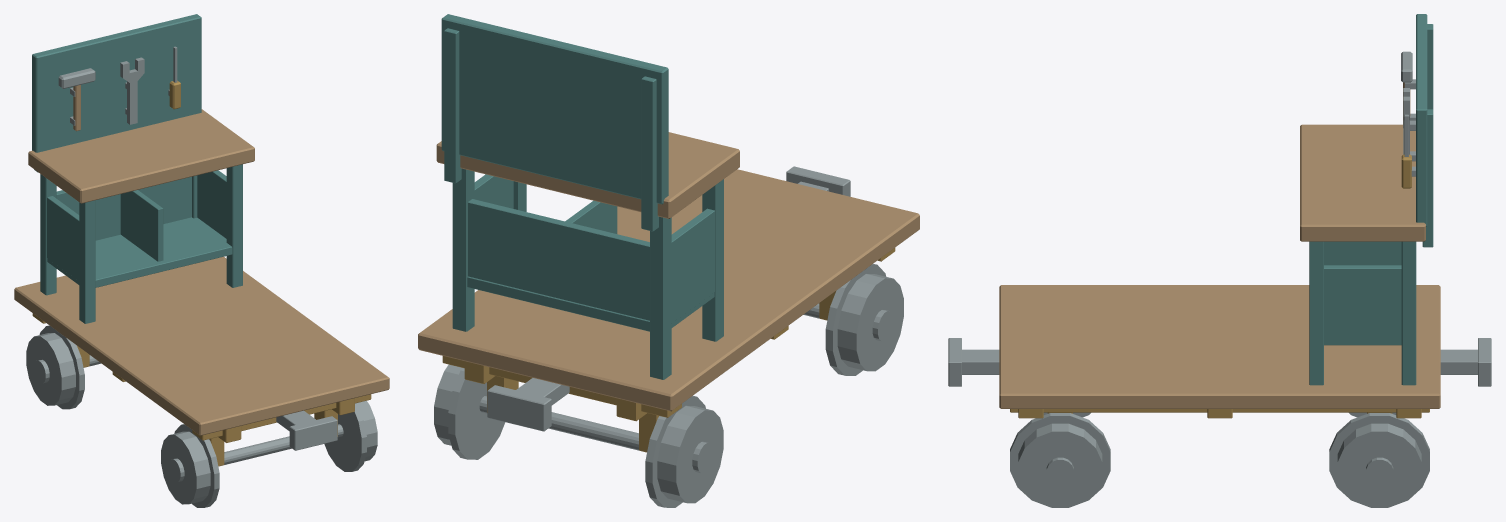
3 renders of one model, left to right at view 1: azimuth 30°, elevation 25°; view 2: azimuth 150°, elevation 25°; view 3: azimuth 270°, elevation 25°, orthographic. The views are drawn at different scales.
Parts seen in each view (by area): view 1: Deck_WorkArea, Toolboard, Bench_Worktop, Storage_Shelf, Storage_Back, Tread_Left_Front, Tread_Left_Rear, Storage_Divider, Storage_Side_Left, BenchLeg_Left_Front, BenchLeg_Right_Front, Flange_Right_Front (+11 smaller); view 2: Deck_WorkArea, Toolboard, Storage_Back, Bench_Worktop, Tread_Left_Rear, Tread_Left_Front, Storage_Side_Left, BenchLeg_Left_Rear, Flange_Right_Rear, BenchLeg_Right_Rear, ToolboardUpright_Left, ToolboardUpright_Right (+12 smaller); view 3: Deck_WorkArea, Bench_Worktop, Storage_Side_Right, Tread_Right_Front, Tread_Right_Rear, Toolboard, BenchLeg_Right_Rear, BenchLeg_Right_Front, Flange_Right_Front, Flange_Right_Rear, Storage_Divider, Chassis_Right (+8 smaller).
Boxes of the visible parts, x1,y1,x2,y2 form: Deck_WorkArea: (14, 256, 389, 435); Toolboard: (32, 14, 201, 152); Bench_Worktop: (28, 109, 254, 203); Storage_Shelf: (47, 217, 232, 287); Storage_Back: (56, 176, 191, 240); Tread_Left_Front: (161, 431, 210, 504); Tread_Left_Rear: (26, 333, 75, 405); Storage_Divider: (120, 190, 163, 261); Storage_Side_Left: (47, 196, 79, 281); BenchLeg_Left_Front: (79, 200, 95, 323); BenchLeg_Right_Front: (226, 164, 242, 287); Flange_Right_Front: (324, 403, 366, 471); Deck_WorkArea: (418, 169, 919, 411); Toolboard: (441, 14, 668, 204); Storage_Back: (468, 199, 649, 320); Bench_Worktop: (436, 132, 739, 218); Tread_Left_Rear: (657, 405, 723, 503); Tread_Left_Front: (837, 274, 903, 371); Storage_Side_Left: (671, 208, 714, 323); BenchLeg_Left_Rear: (650, 216, 671, 379); Flange_Right_Rear: (448, 368, 505, 459); BenchLeg_Right_Rear: (452, 168, 474, 331); ToolboardUpright_Left: (641, 76, 658, 231); ToolboardUpright_Right: (444, 28, 461, 183); Deck_WorkArea: (999, 285, 1440, 408); Bench_Worktop: (1300, 124, 1425, 241); Storage_Side_Right: (1324, 265, 1401, 340); Tread_Right_Front: (1018, 423, 1102, 507); Tread_Right_Rear: (1337, 423, 1421, 507); Toolboard: (1416, 14, 1427, 226); BenchLeg_Right_Rear: (1401, 241, 1416, 385); BenchLeg_Right_Front: (1309, 241, 1323, 385); Flange_Right_Front: (1010, 413, 1110, 501); Flange_Right_Rear: (1329, 413, 1429, 501); Storage_Divider: (1324, 241, 1401, 265); Chassis_Right: (1010, 409, 1429, 412).
Size of the model in its own units: 1.24 by 2.11 by 2.59.
